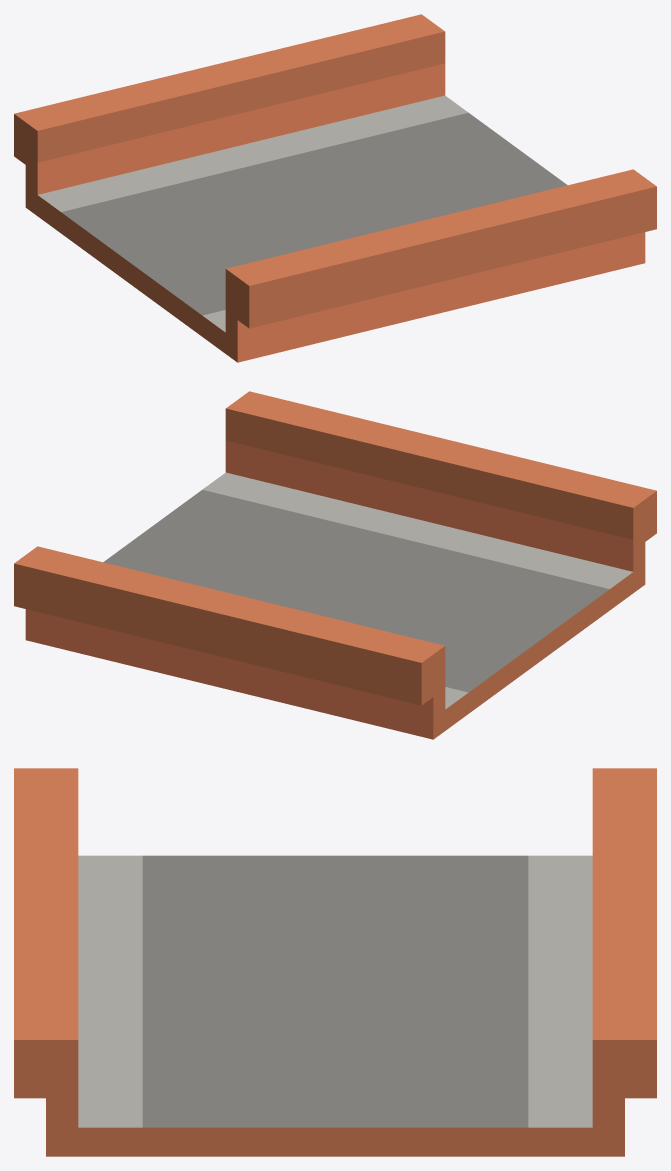
File: bridge_center_woodRound.glb
3 views of the same model, one above another, from view 1: azimuth 30°, elevation 25°; view 2: azimuth 150°, elevation 25°; view 3: azimuth 270°, elevation 25° (orthographic). The views are drawn at different scales.
Visible parts, largest first — view 1: bridge_center_woodRound; view 2: bridge_center_woodRound; view 3: bridge_center_woodRound.
Part boxes in pixels (x1=…): bridge_center_woodRound: x1=14, y1=14, x2=656, y2=362; bridge_center_woodRound: x1=14, y1=391, x2=656, y2=739; bridge_center_woodRound: x1=14, y1=768, x2=656, y2=1156.
Size of the model in its own units: 1 by 0.2 by 1.
